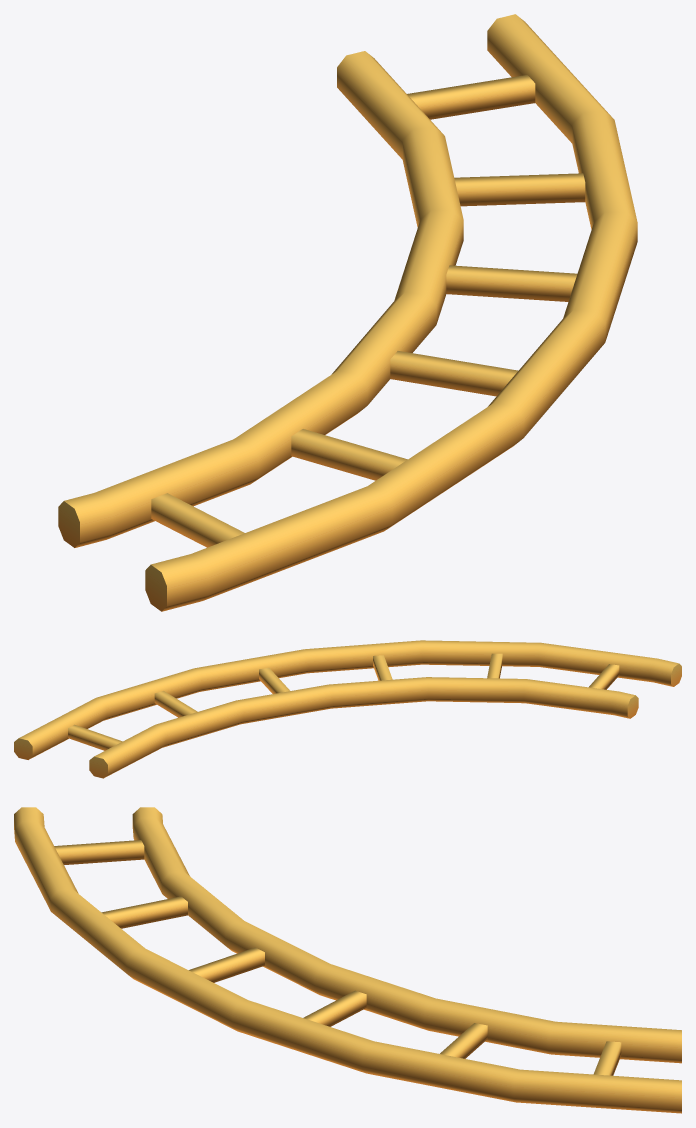
File: coaster-mouse-corner-small.glb
The picture shows the model from 3 angles, top to bottom: view 1: azimuth 30°, elevation 25°; view 2: azimuth 150°, elevation 25°; view 3: azimuth 270°, elevation 25°; orthographic projection. The views are drawn at different scales.
Visible parts, largest first — view 1: coaster-mouse-corner-small; view 2: coaster-mouse-corner-small; view 3: coaster-mouse-corner-small.
Boxes of the visible parts, x1,y1,x2,y2 form: coaster-mouse-corner-small: [58, 14, 637, 611]; coaster-mouse-corner-small: [14, 640, 681, 778]; coaster-mouse-corner-small: [14, 807, 681, 1113].
Bounding box in the file's own units: 2.25 × 0.1 × 2.25.
1 material, 1 textured.
